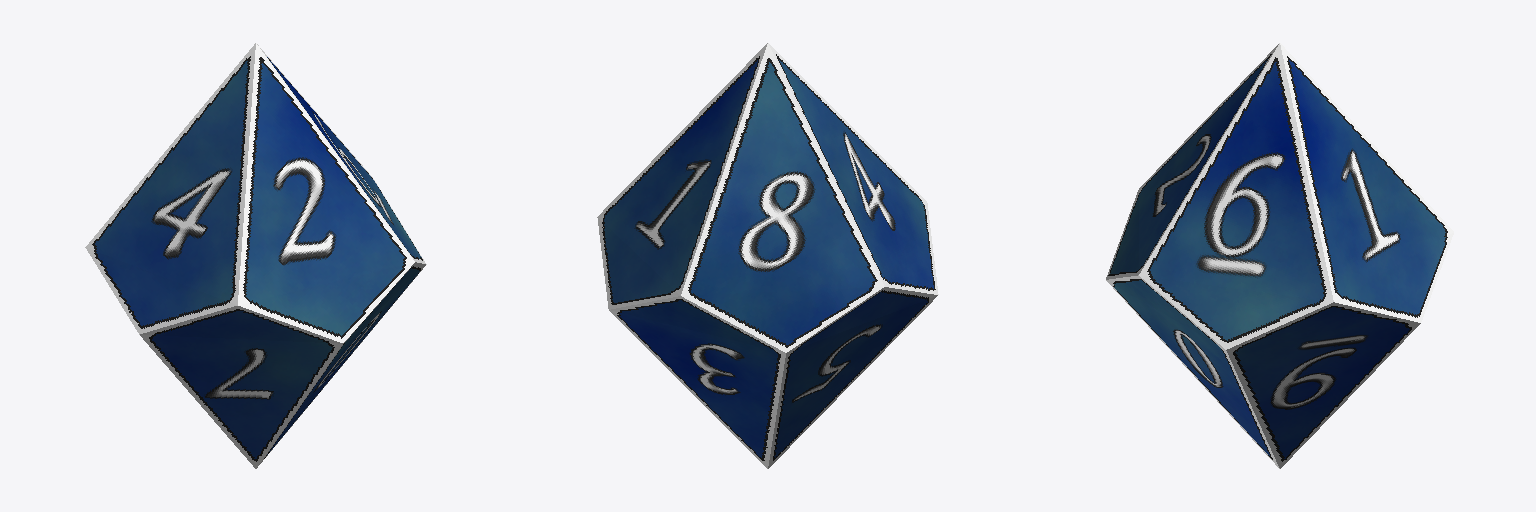
The picture shows the model from 3 angles: view 1: azimuth 30°, elevation 25°; view 2: azimuth 150°, elevation 25°; view 3: azimuth 270°, elevation 25°; orthographic projection.
Parts seen in each view (by area): view 1: Cone_Cone.001; view 2: Cone_Cone.001; view 3: Cone_Cone.001.
Part boxes in pixels (x1,y1,x2,y2): Cone_Cone.001: (85,43,426,468); Cone_Cone.001: (597,43,938,468); Cone_Cone.001: (1106,43,1453,468).
Size of the model in its own units: 0.4959 by 0.7039 by 0.5214.
1 materials, 1 textured.